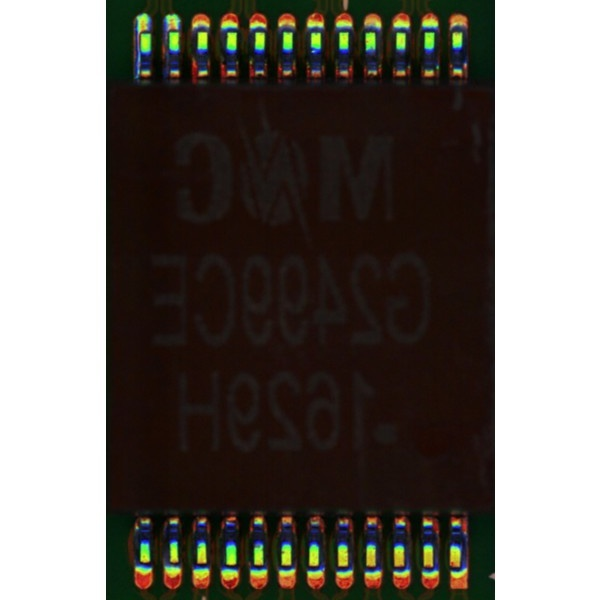Bad_podu: (169, 25, 179, 37), (140, 27, 150, 37)
Bad_qiaojiao: (134, 33, 141, 81)
